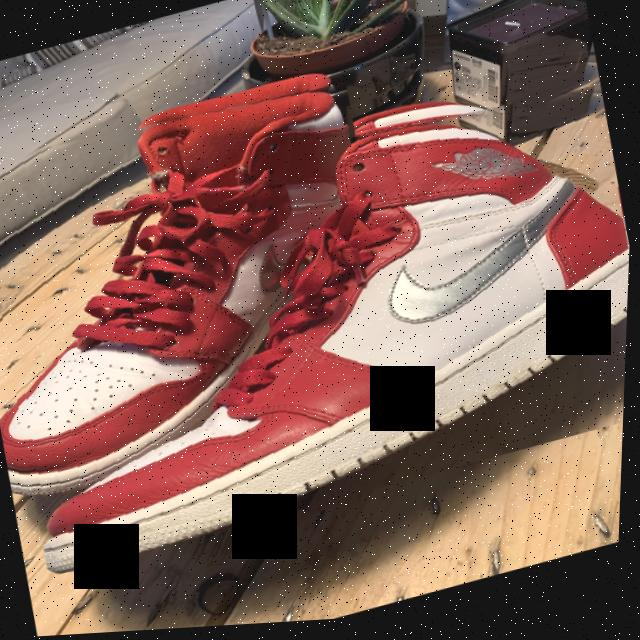shoe: (0, 58, 637, 581), (0, 63, 415, 505)
